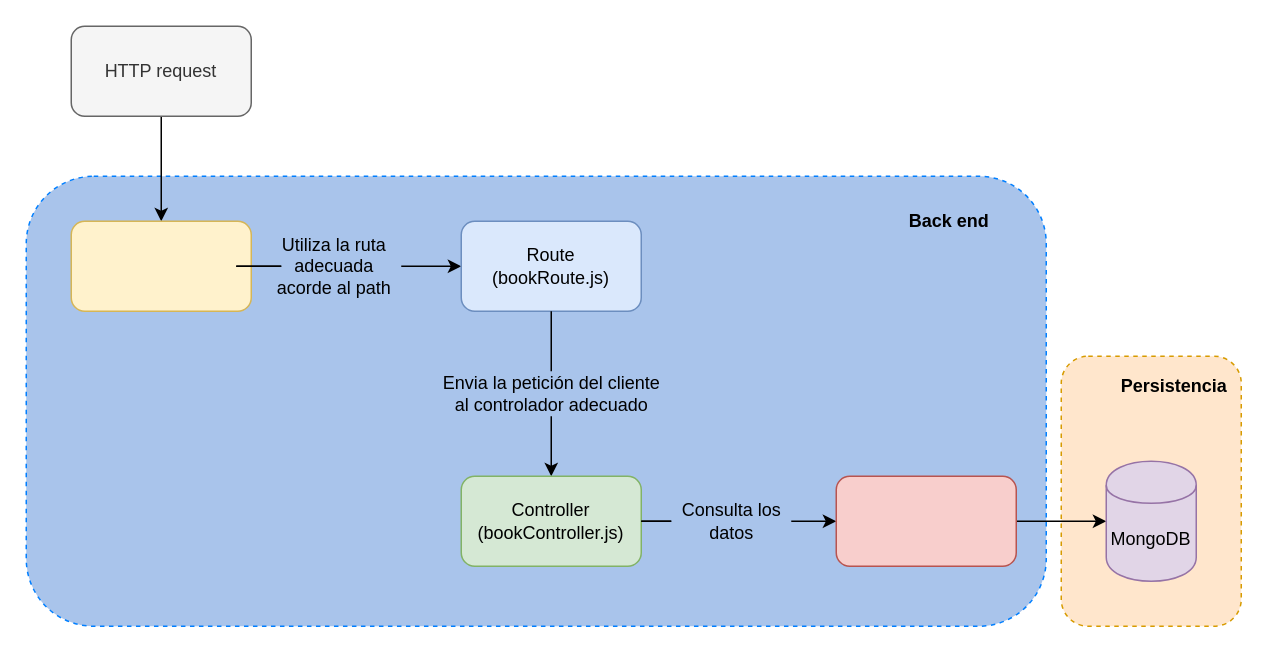
Some shapes in this 1268 by 653 pixel diagram are drawn without their labels. Each missing label, with the box of its shape:
Models (bookModel.js): (835, 475, 1016, 566)
Server (server.js): (70, 220, 251, 311)
